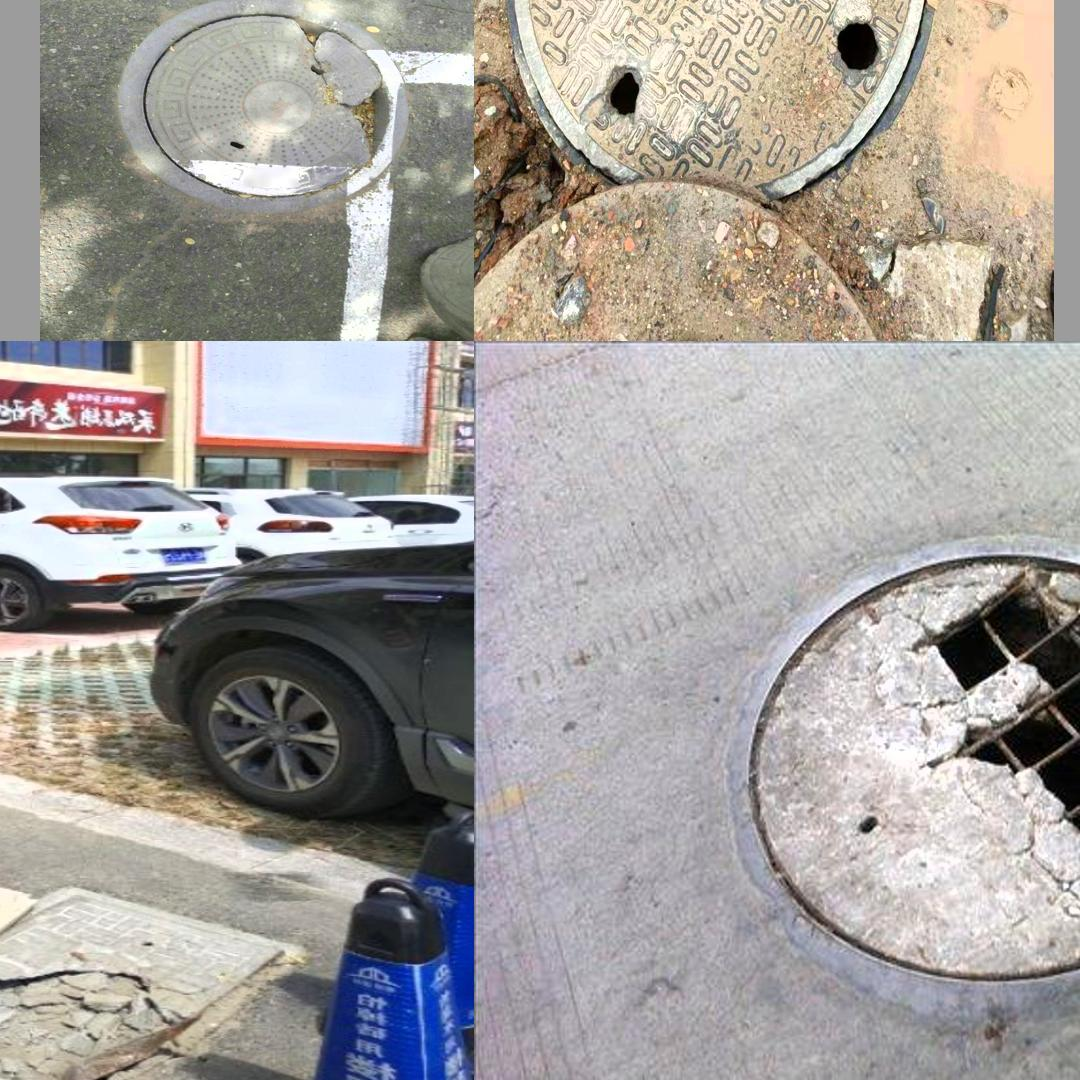broke: (710, 527, 1080, 1018), (503, 0, 935, 206), (117, 0, 407, 214), (0, 880, 293, 1080)
